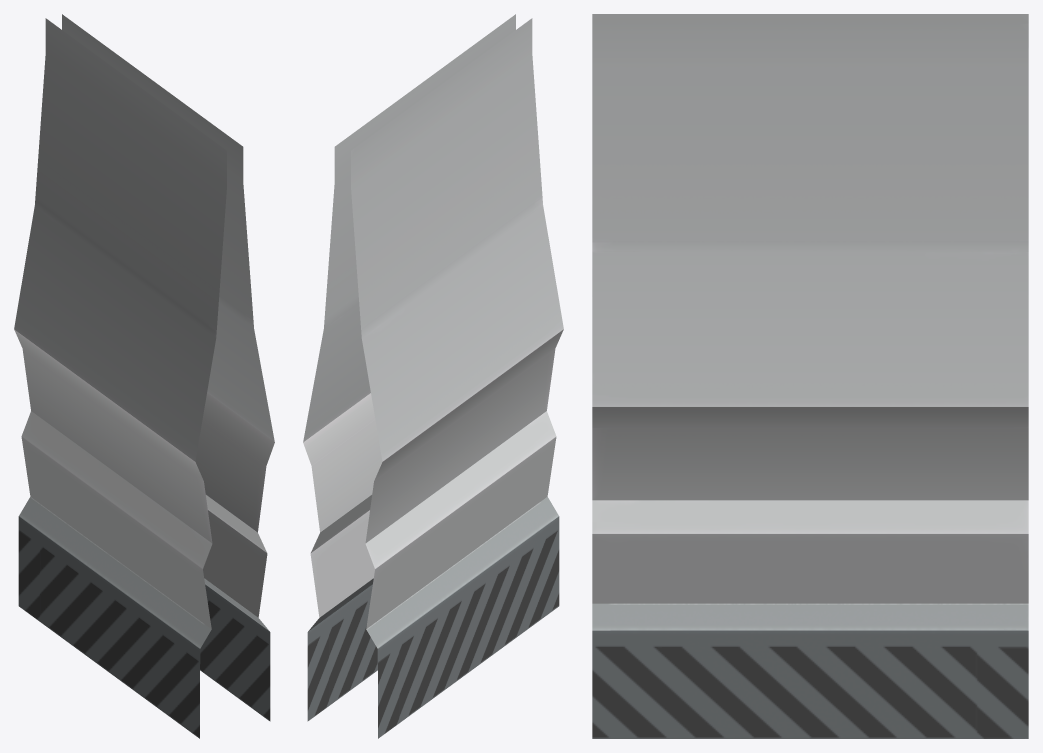
The model's file is Wall_hospital_short01.fbx.
3 views of the same model, side by side, from view 1: azimuth 30°, elevation 25°; view 2: azimuth 150°, elevation 25°; view 3: azimuth 270°, elevation 25° (orthographic). The views are drawn at different scales.
Parts seen in each view (by area): view 1: Wall_hospital.001; view 2: Wall_hospital.001; view 3: Wall_hospital.001.
Part boxes in pixels (x1,y1,x2,y2): Wall_hospital.001: (14,14,274,738); Wall_hospital.001: (303,14,563,738); Wall_hospital.001: (592,14,1028,738).
Bounding box in the file's own units: 86.1 × 602 × 340.
1 material, 1 textured.
